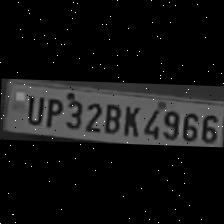2: (82, 97, 102, 132)
3: (62, 94, 82, 129)
4: (140, 102, 160, 138)
6: (197, 108, 218, 142), (178, 106, 197, 141)
9: (159, 104, 178, 140)
B: (101, 97, 121, 132)
K: (119, 100, 139, 137)
P: (42, 93, 62, 127)
U: (22, 91, 44, 125)
